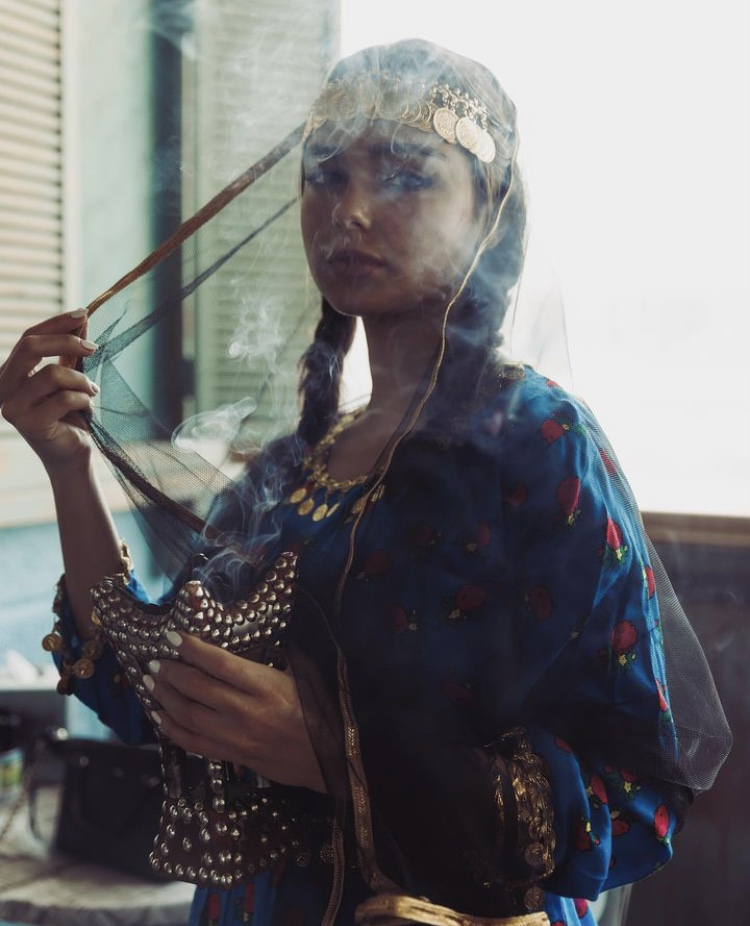Saudi_Founding_Day: (1, 38, 736, 926)
